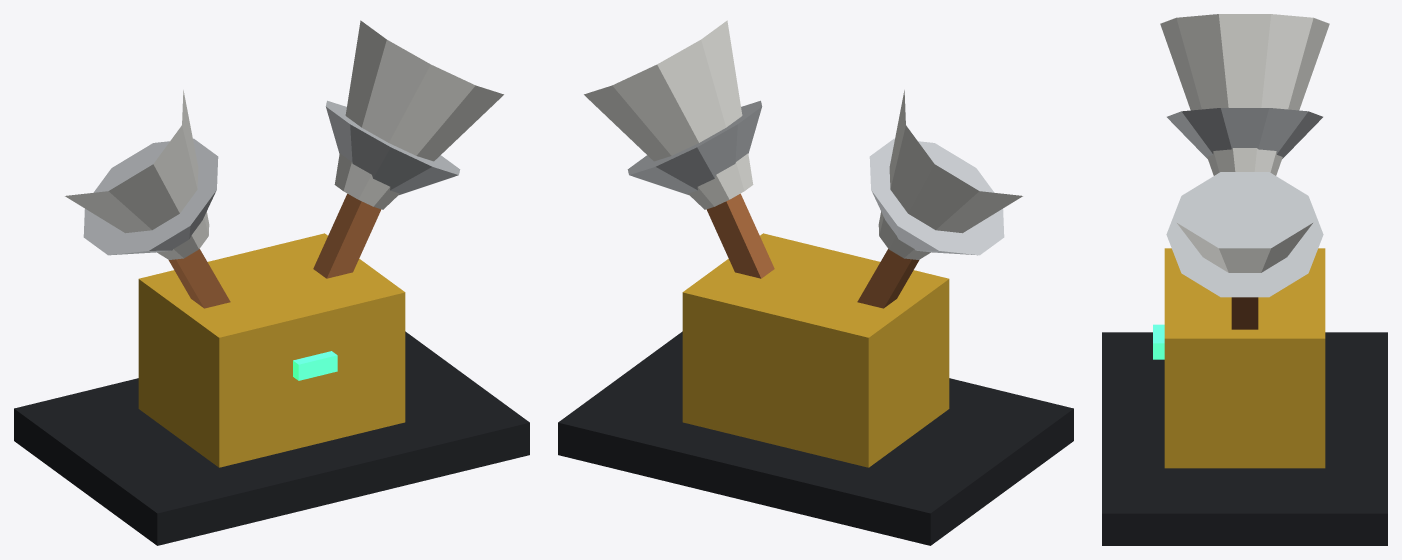
File: comm-rise-xband.glb
3 renders of one model, left to right at view 1: azimuth 30°, elevation 25°; view 2: azimuth 150°, elevation 25°; view 3: azimuth 270°, elevation 25°, orthographic.
Parts seen in each view (by area): view 1: CommRiseXband_FoilGold, CommRiseXband_HullBlack, CommRiseXband_Hull, CommRiseXband_Aluminum, CommRiseXband_Copper, CommRiseXband_LedGreen; view 2: CommRiseXband_FoilGold, CommRiseXband_HullBlack, CommRiseXband_Hull, CommRiseXband_Aluminum, CommRiseXband_Copper; view 3: CommRiseXband_HullBlack, CommRiseXband_FoilGold, CommRiseXband_Aluminum, CommRiseXband_Hull, CommRiseXband_Copper, CommRiseXband_LedGreen.
Boxes of the visible parts, <box> form: CommRiseXband_FoilGold: <box>138,233,405,467</box>; CommRiseXband_HullBlack: <box>14,331,529,545</box>; CommRiseXband_Hull: <box>65,20,503,259</box>; CommRiseXband_Aluminum: <box>83,100,460,255</box>; CommRiseXband_Copper: <box>168,193,381,308</box>; CommRiseXband_LedGreen: <box>293,351,337,380</box>; CommRiseXband_FoilGold: <box>682,233,949,467</box>; CommRiseXband_HullBlack: <box>558,331,1073,545</box>; CommRiseXband_Hull: <box>584,20,1022,259</box>; CommRiseXband_Aluminum: <box>627,100,1004,255</box>; CommRiseXband_Copper: <box>706,193,919,308</box>; CommRiseXband_HullBlack: <box>1102,332,1387,545</box>; CommRiseXband_FoilGold: <box>1164,248,1325,468</box>; CommRiseXband_Aluminum: <box>1166,108,1323,297</box>; CommRiseXband_Hull: <box>1160,14,1329,272</box>; CommRiseXband_Copper: <box>1231,297,1258,329</box>; CommRiseXband_LedGreen: <box>1153,324,1164,359</box>.
Bounding box in the file's own units: 0.5686 × 0.4842 × 0.32.
